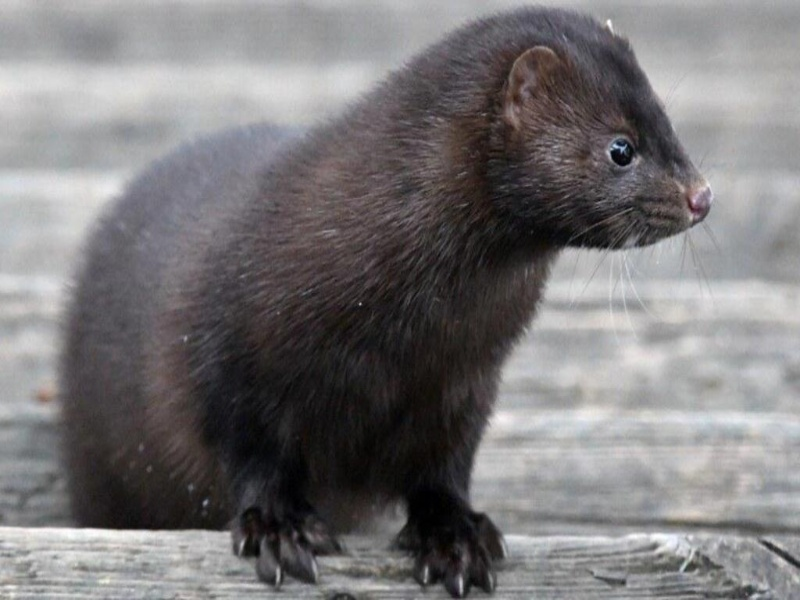minkish: (53, 8, 716, 589)
